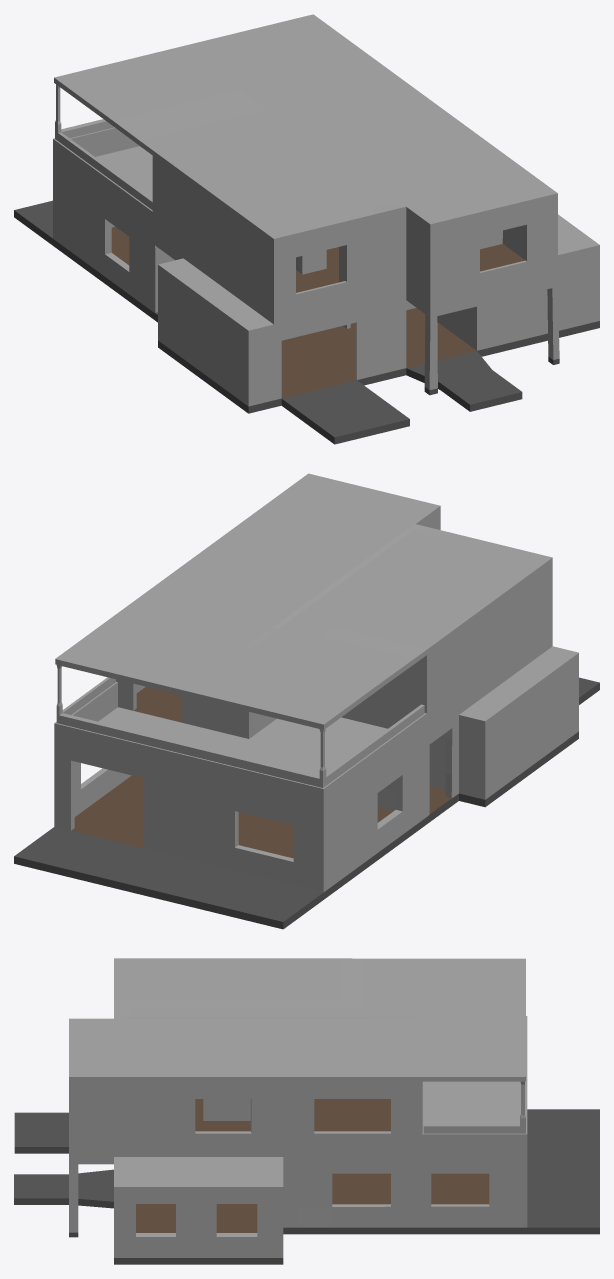
The model's file is Building 1.fbx.
3 renders of one model, top to bottom at view 1: azimuth 30°, elevation 25°; view 2: azimuth 150°, elevation 25°; view 3: azimuth 270°, elevation 25°, orthographic. The views are drawn at different scales.
Parts seen in each view (by area): view 1: Building; view 2: Building; view 3: Building.
Part boxes in pixels (x1,y1,x2,y2): Building: (14, 14, 599, 444); Building: (14, 473, 599, 929); Building: (14, 958, 599, 1264).
Size of the model in its own units: 700 by 325 by 1081.
